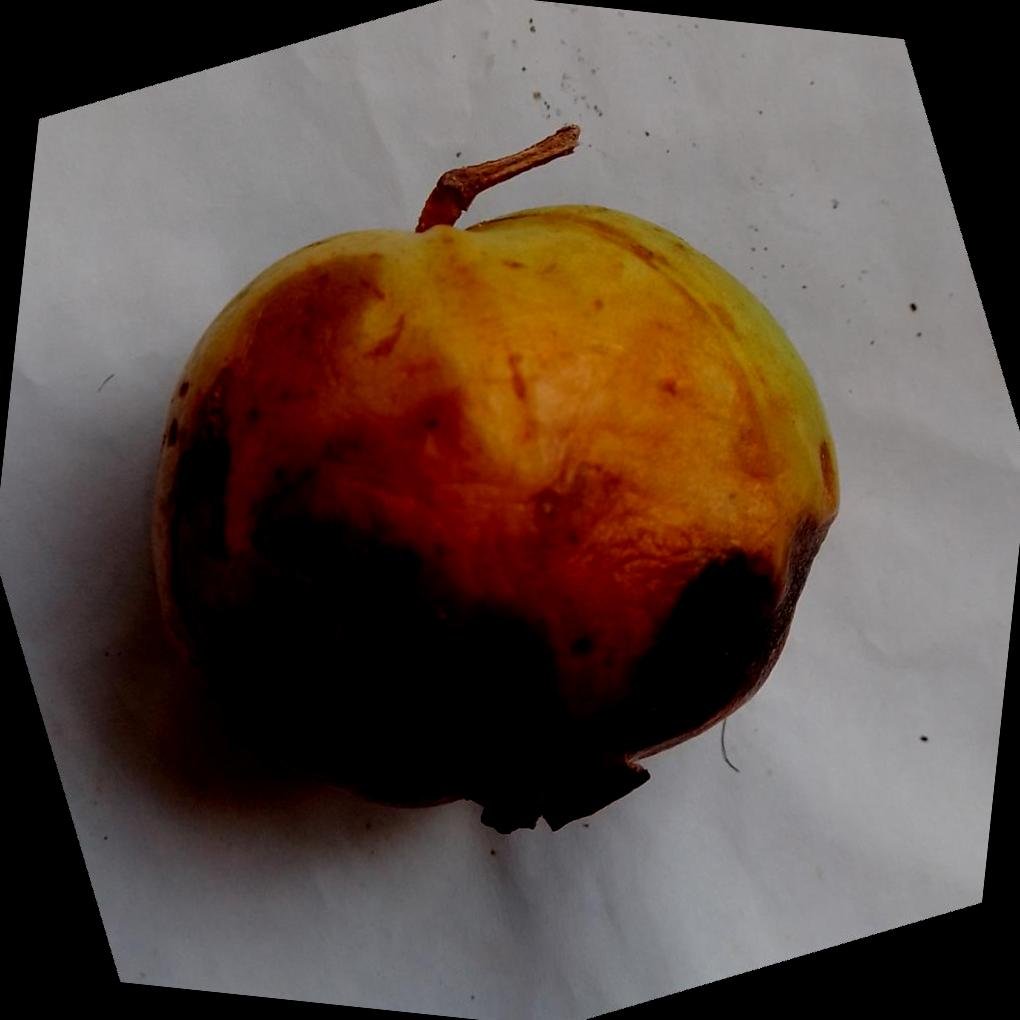FreshOrange: (145, 205, 840, 834)
